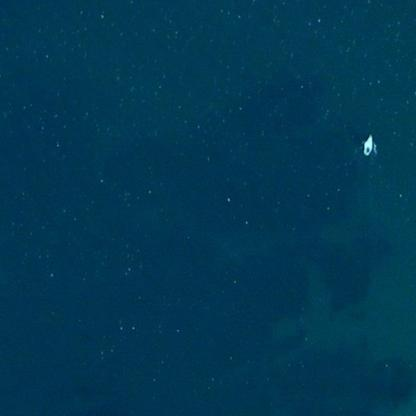ship: (357, 131, 377, 159)
